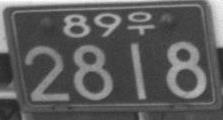1: (120, 42, 156, 100)
2: (24, 45, 69, 102)
8: (164, 39, 207, 100), (72, 43, 113, 101), (62, 13, 91, 39)
9: (93, 11, 122, 37)
우: (126, 10, 154, 35)
